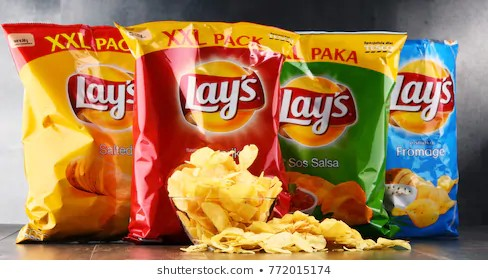lays-large: (133, 23, 293, 242), (5, 12, 133, 241), (286, 28, 409, 240), (390, 40, 459, 238)
